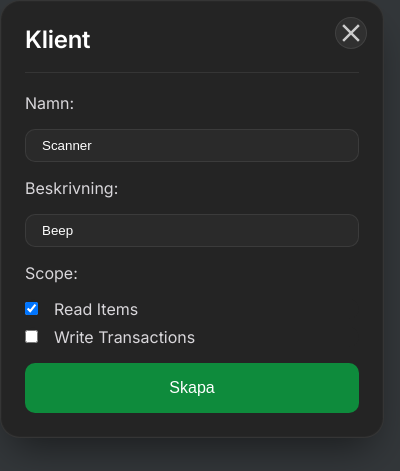
Test: AddClientPopup › accept button state › becomes disabled again when the last scope is unchecked
This screenshot has width=400, height=471.
Check: the button "Skapa" is enabled, box [25, 363, 359, 413]
Step 1. Click the text "read items" → (96,309), box [54, 299, 138, 319]
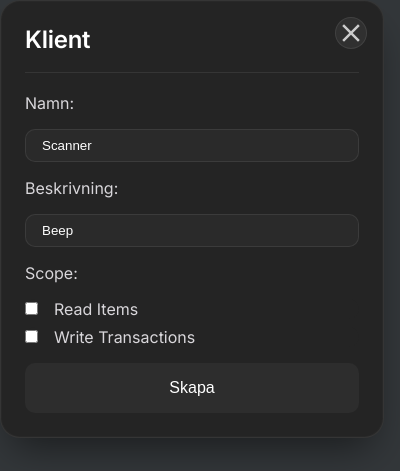
Check: the button "Skapa" is disabled, box [25, 363, 359, 413]
